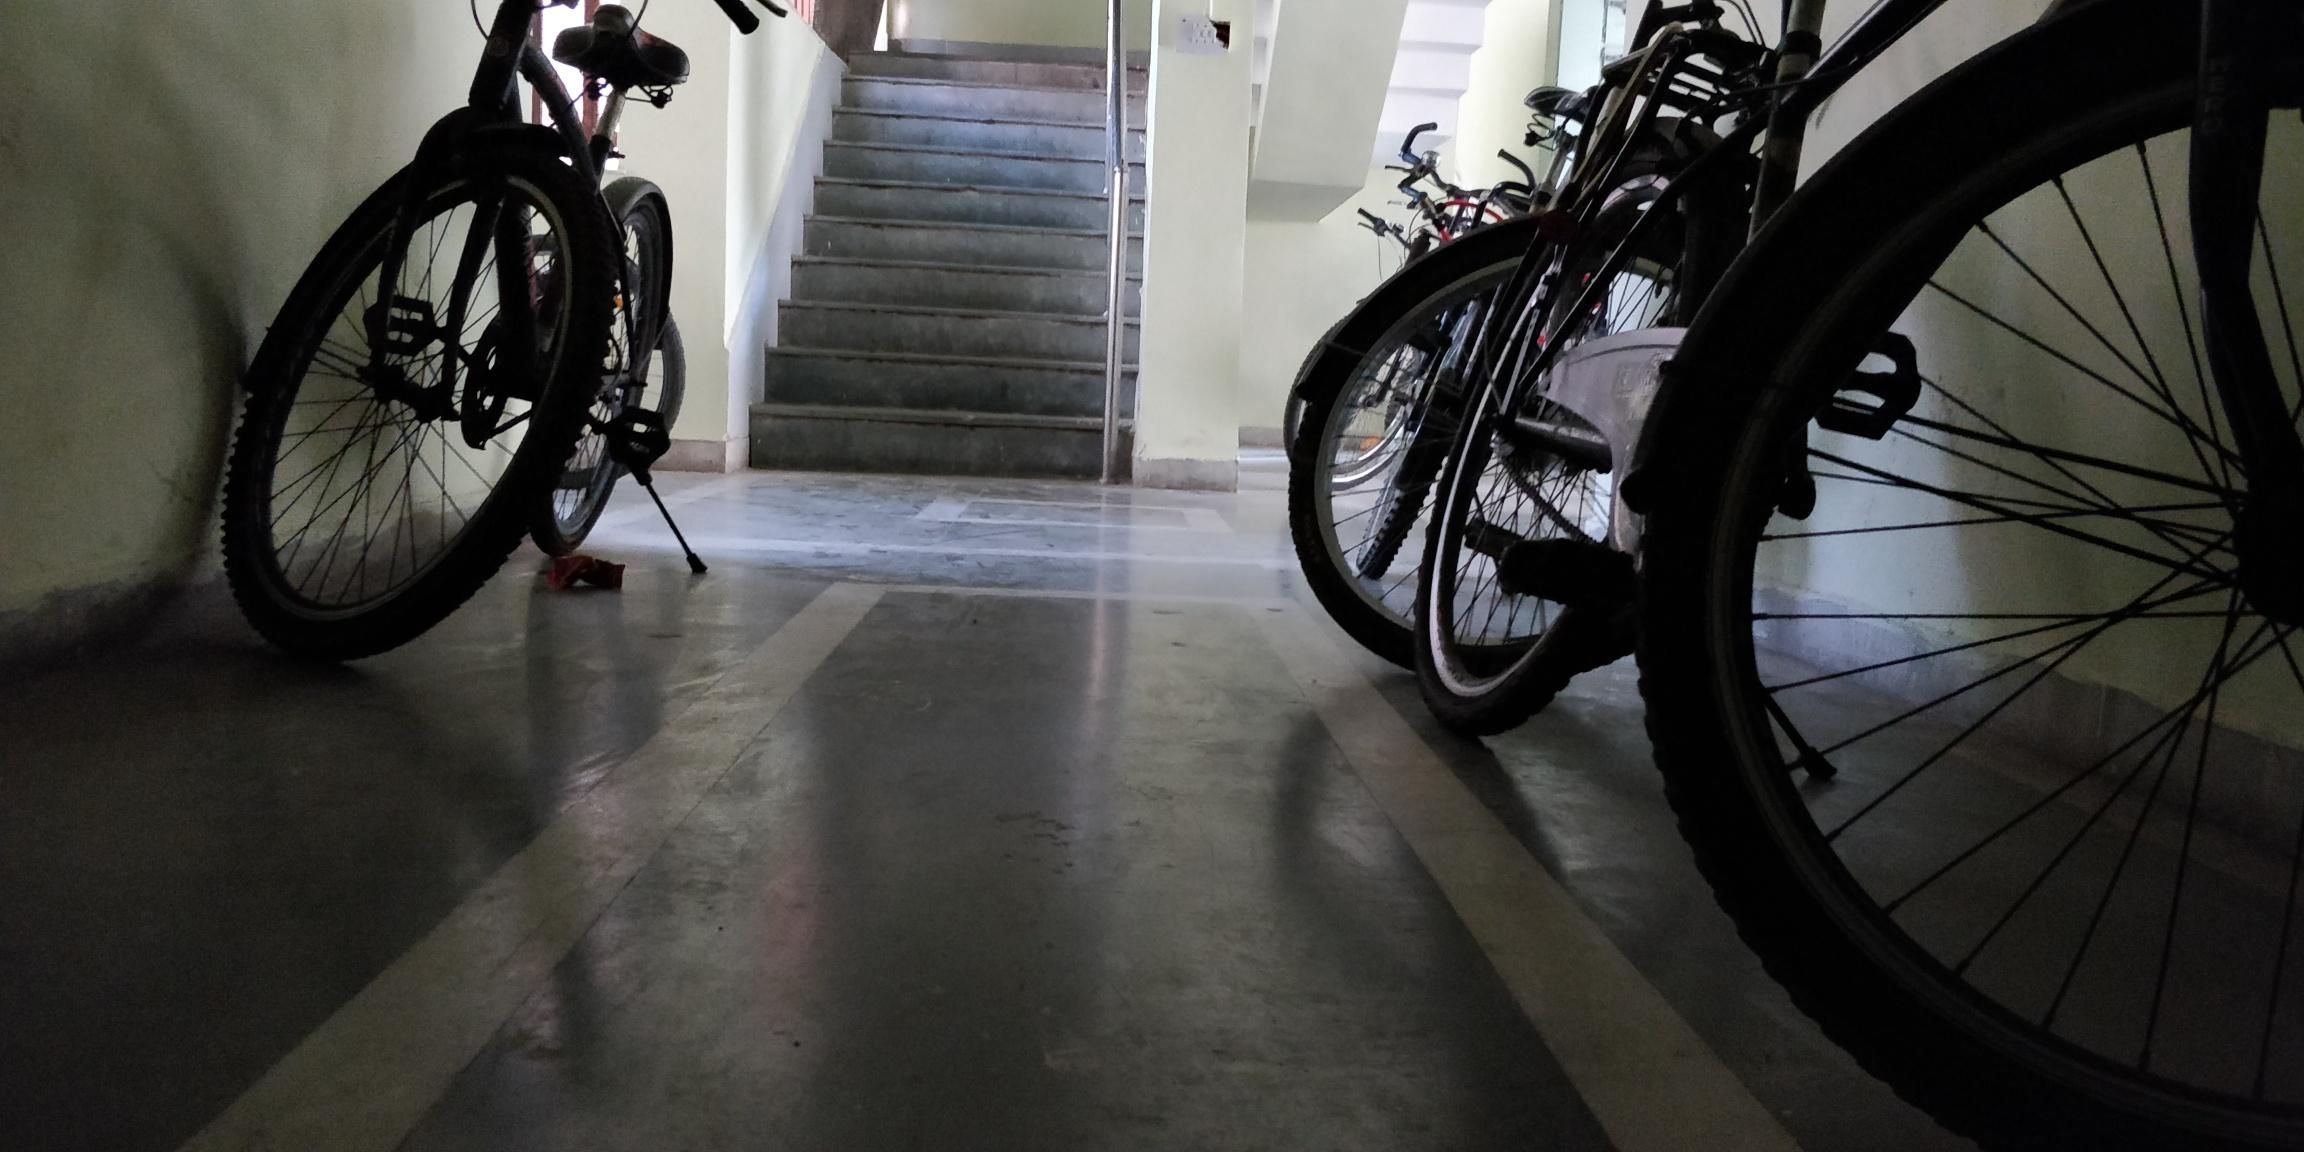stairs_up: (710, 47, 1148, 475)
